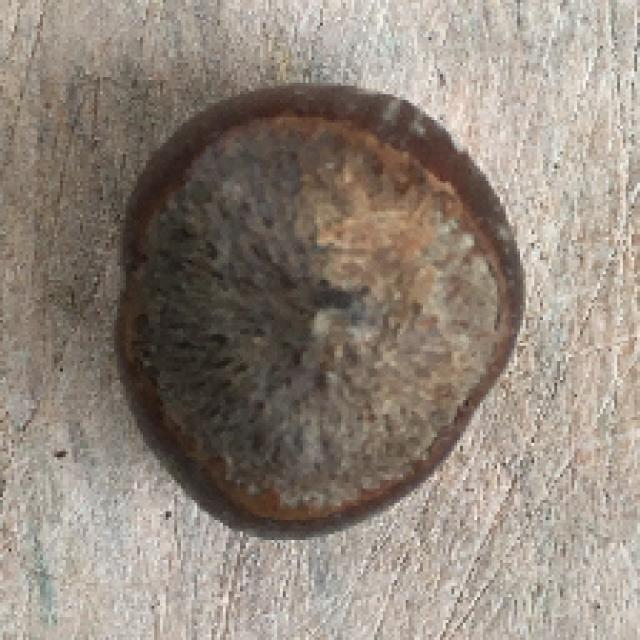damagedHazelnut: (114, 76, 535, 545)
